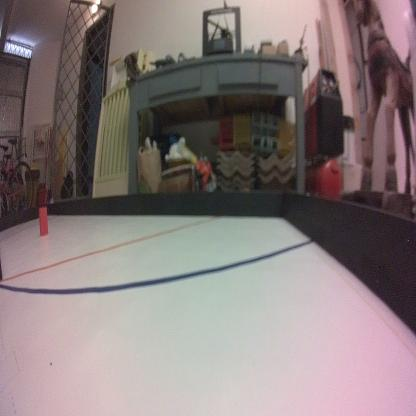red: (37, 203, 49, 236)
